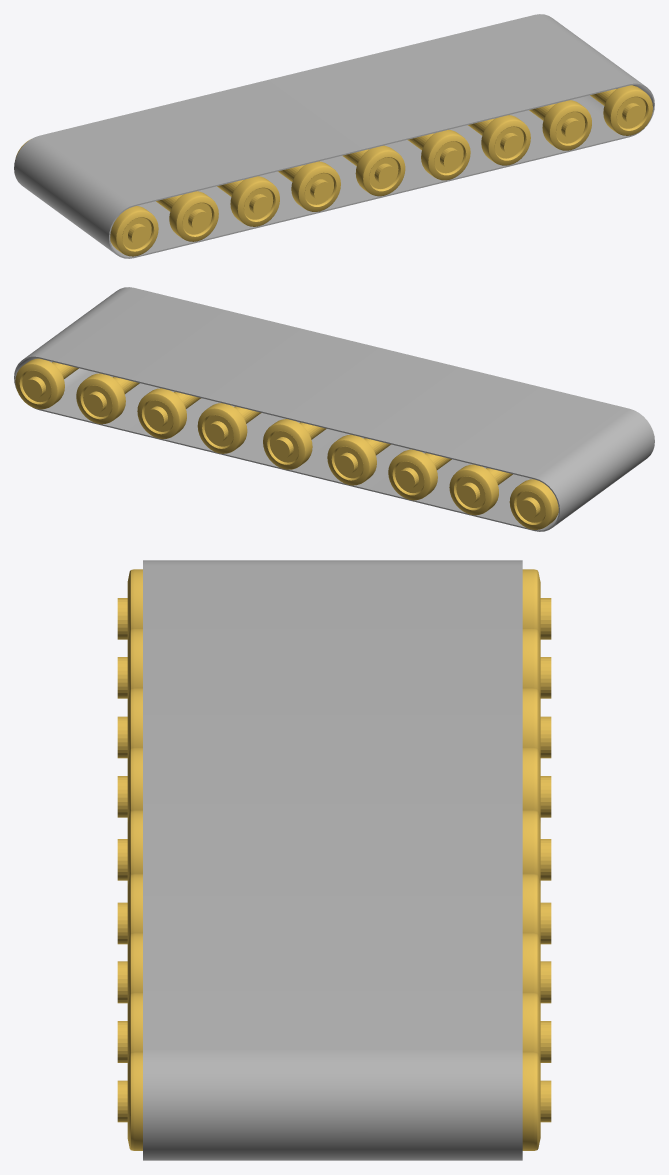
File: bangChuyen.fbx
3 views of the same model, one above another, from view 1: azimuth 30°, elevation 25°; view 2: azimuth 150°, elevation 25°; view 3: azimuth 270°, elevation 25° (orthographic). The views are drawn at different scales.
Visible parts, largest first — view 1: Circle; view 2: Circle; view 3: Circle.
Boxes of the visible parts, left/top/right/bottom form: Circle: left=14, top=14, right=654, bottom=258; Circle: left=14, top=287, right=654, bottom=531; Circle: left=117, top=560, right=551, bottom=1160.
Bounding box in the file's own units: 599 × 55.59 × 206.
